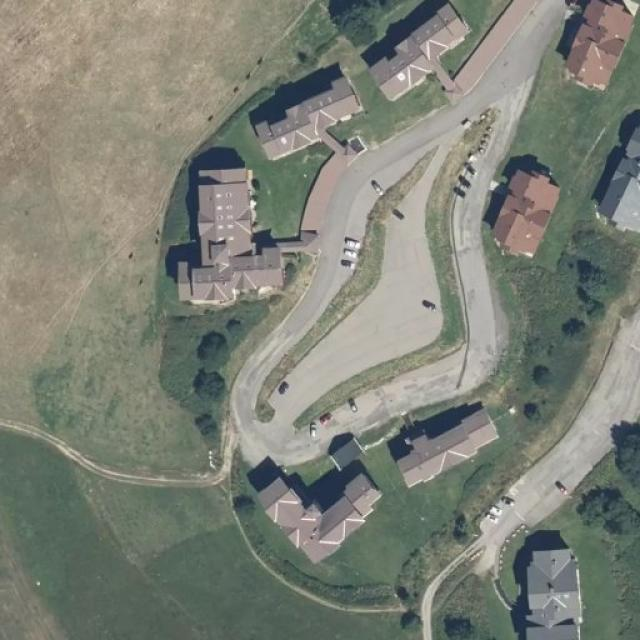maison: (170, 155, 334, 307), (258, 466, 379, 558), (254, 74, 366, 165), (366, 1, 469, 99), (398, 393, 501, 484), (515, 543, 586, 640), (561, 0, 632, 88), (492, 168, 558, 254)
